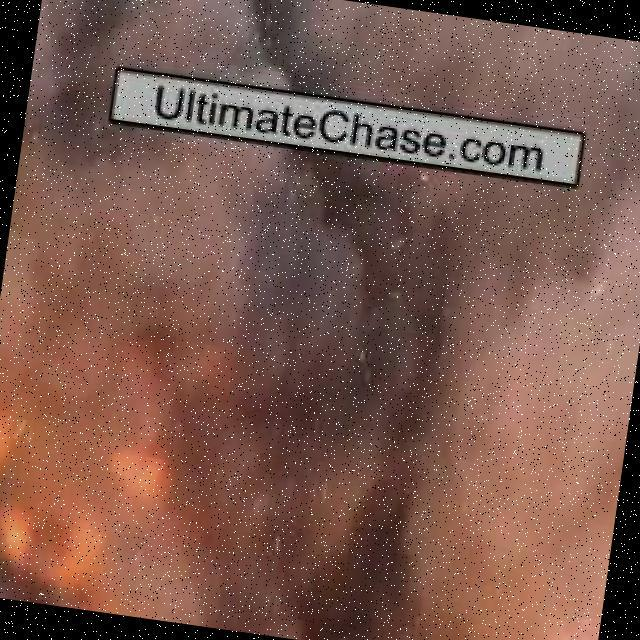Fire: (0, 255, 265, 628)
